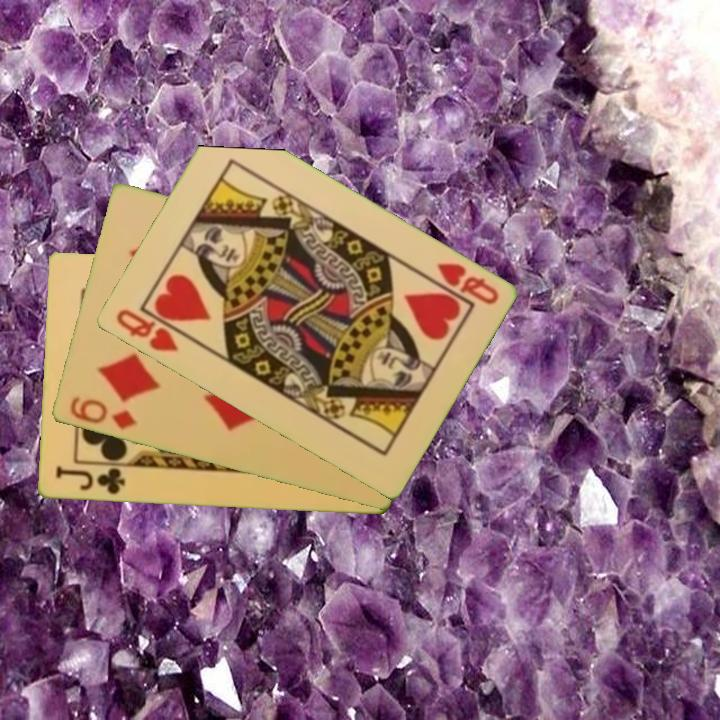6d: (66, 393, 139, 433)
Jc: (52, 463, 128, 498)
Qh: (112, 305, 181, 355), (432, 259, 501, 308)
